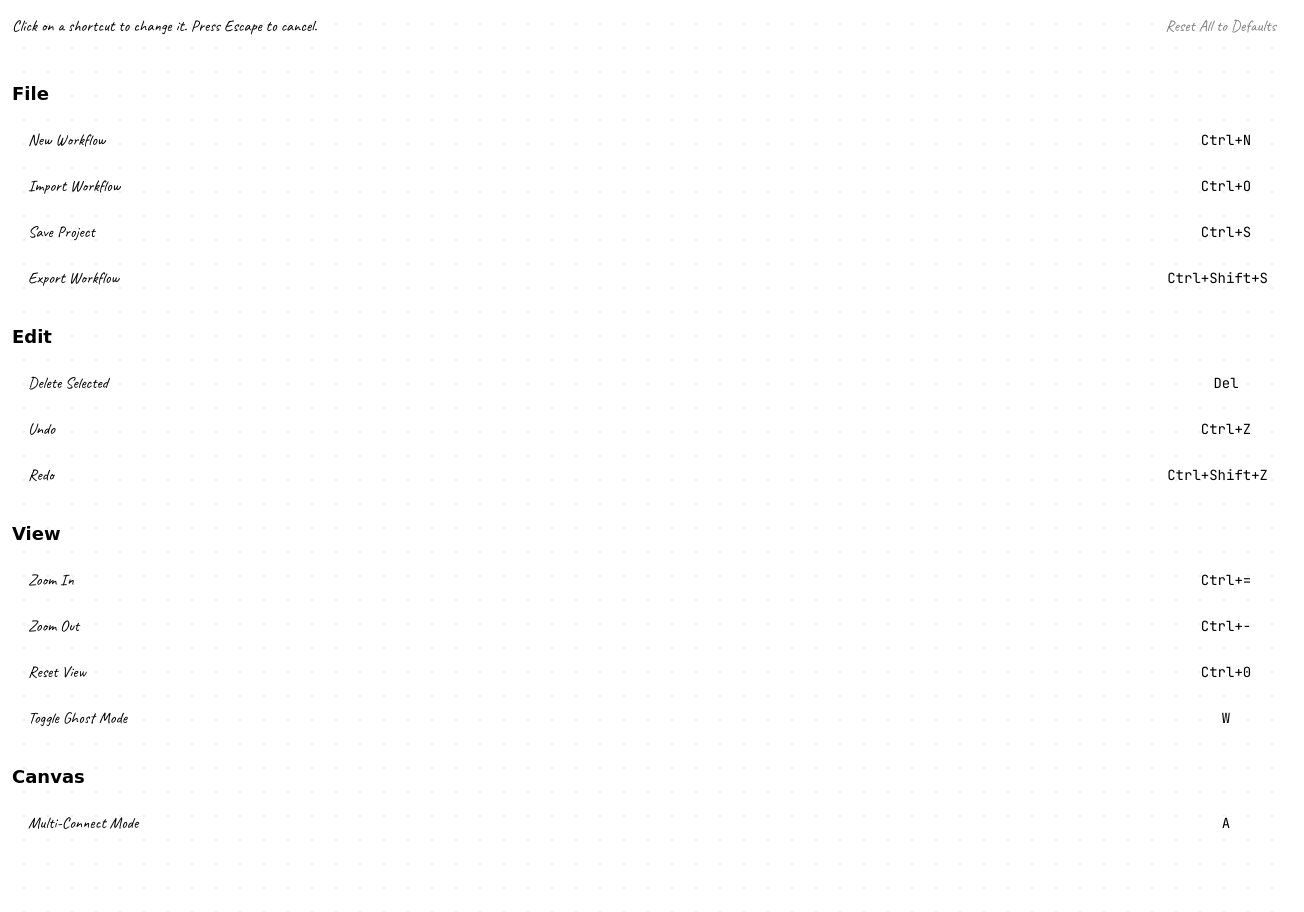
it: KeybindingsPanel › saving bindings › should show reset button after customizing a binding
Click the button "Del" at (1226, 383), box [1176, 370, 1276, 396]
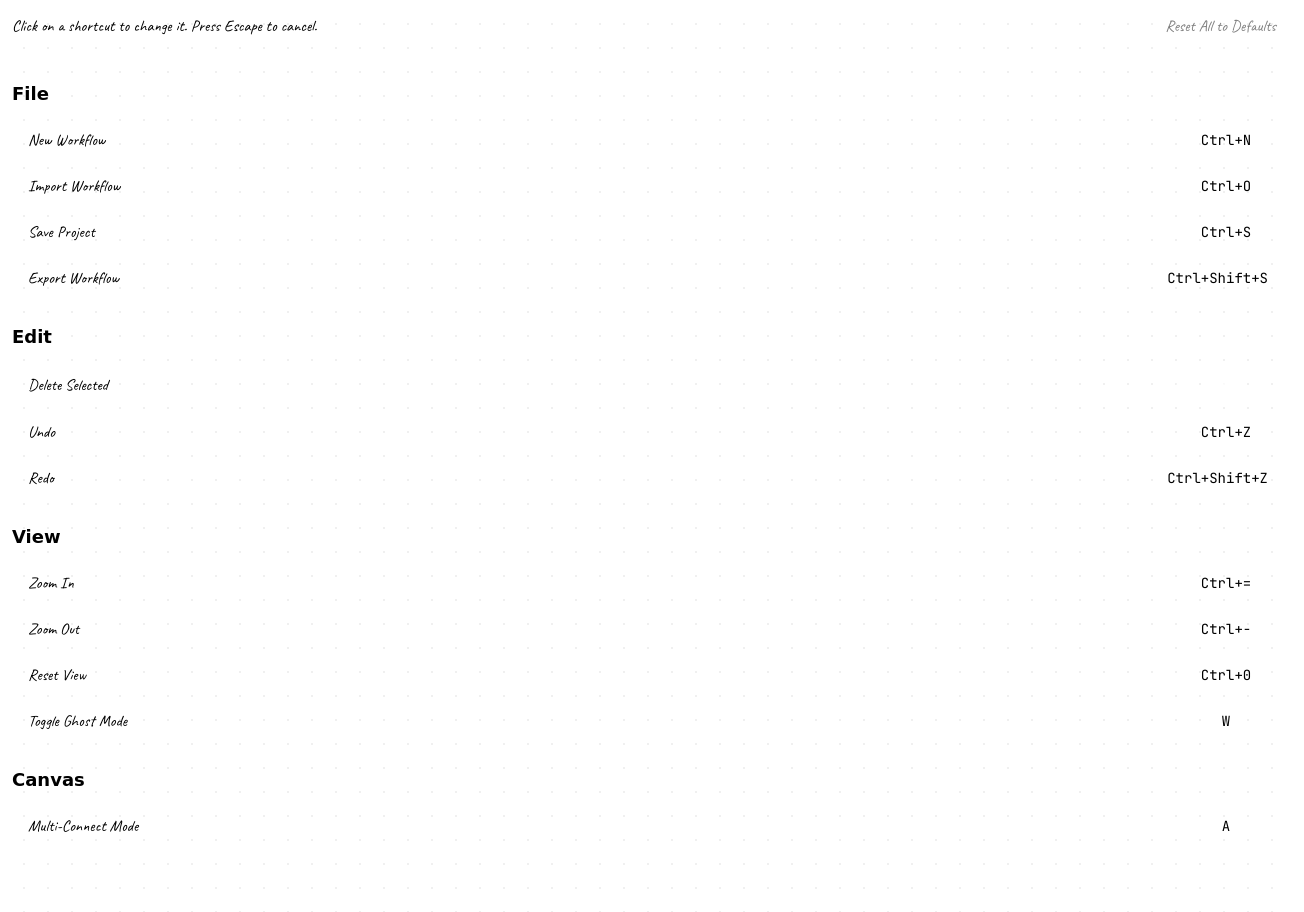
Press x
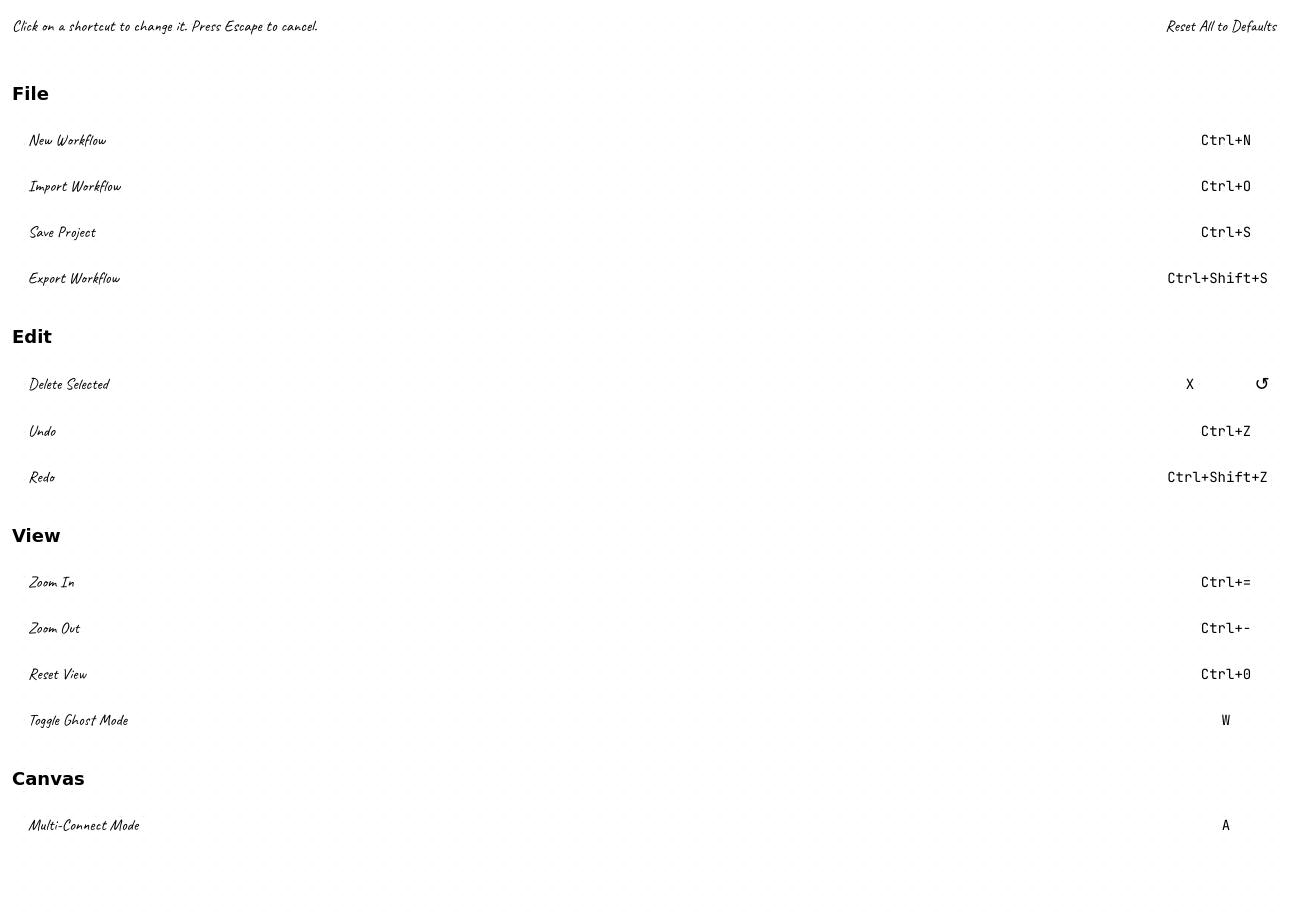
Now the button titled "Reset to default" is shown, box [1248, 370, 1276, 398]
